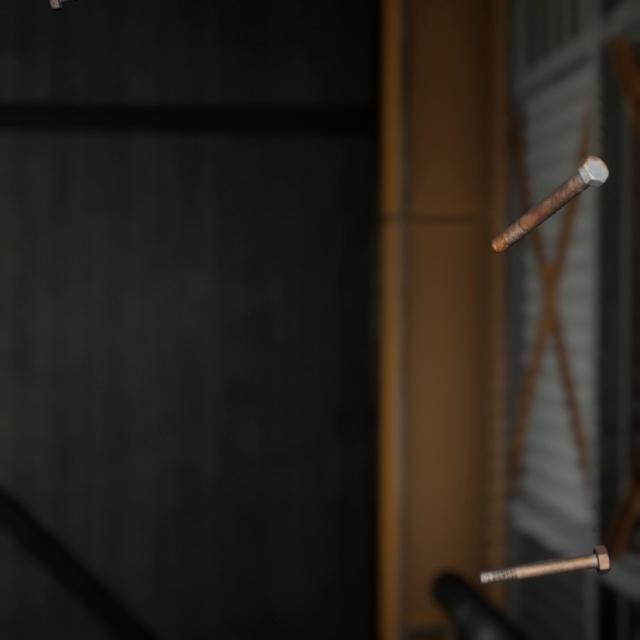bolt: (486, 135, 613, 243), (473, 518, 614, 566)
